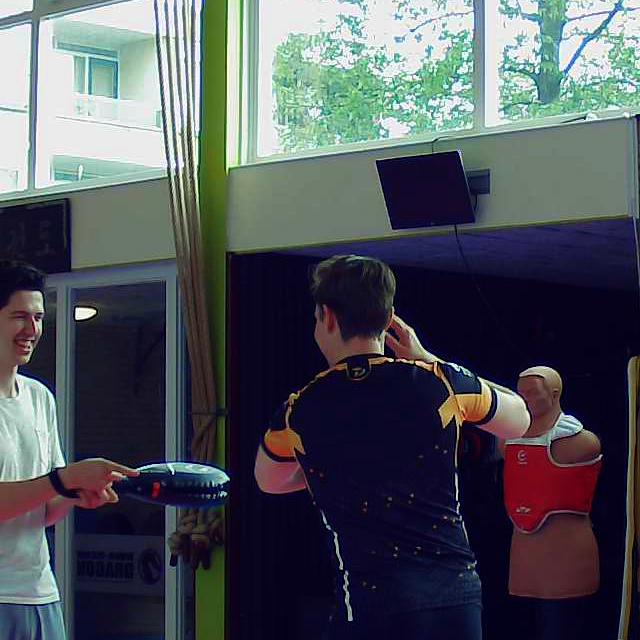paddle: (104, 461, 233, 510)
